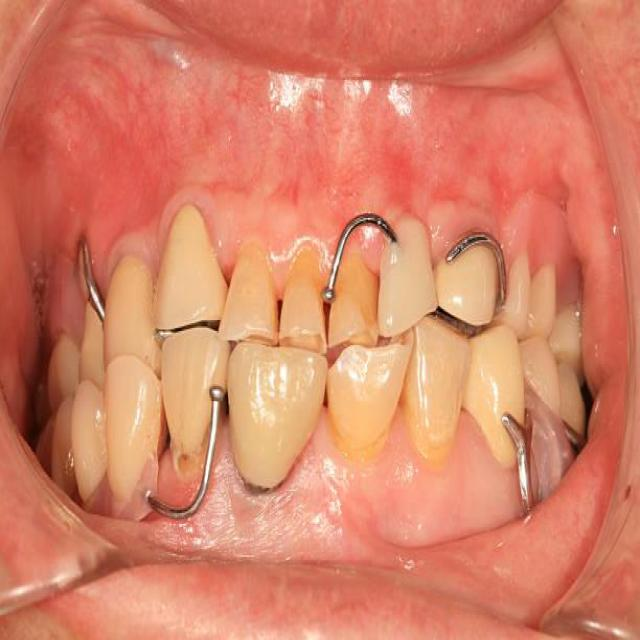caries: (235, 463, 291, 512), (165, 433, 210, 490)
